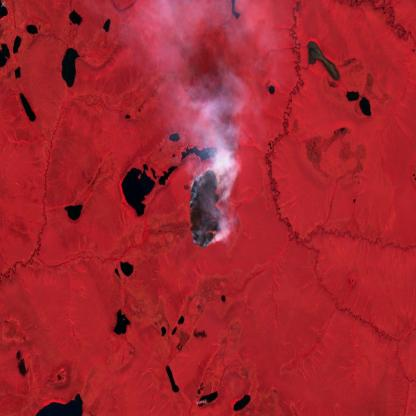fire: (182, 163, 224, 253)
